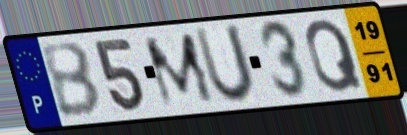3: (259, 16, 310, 103)
5: (89, 37, 146, 114)
B: (38, 40, 105, 121)
M: (140, 29, 219, 110)
Q: (303, 16, 366, 95)
U: (191, 22, 259, 107)
